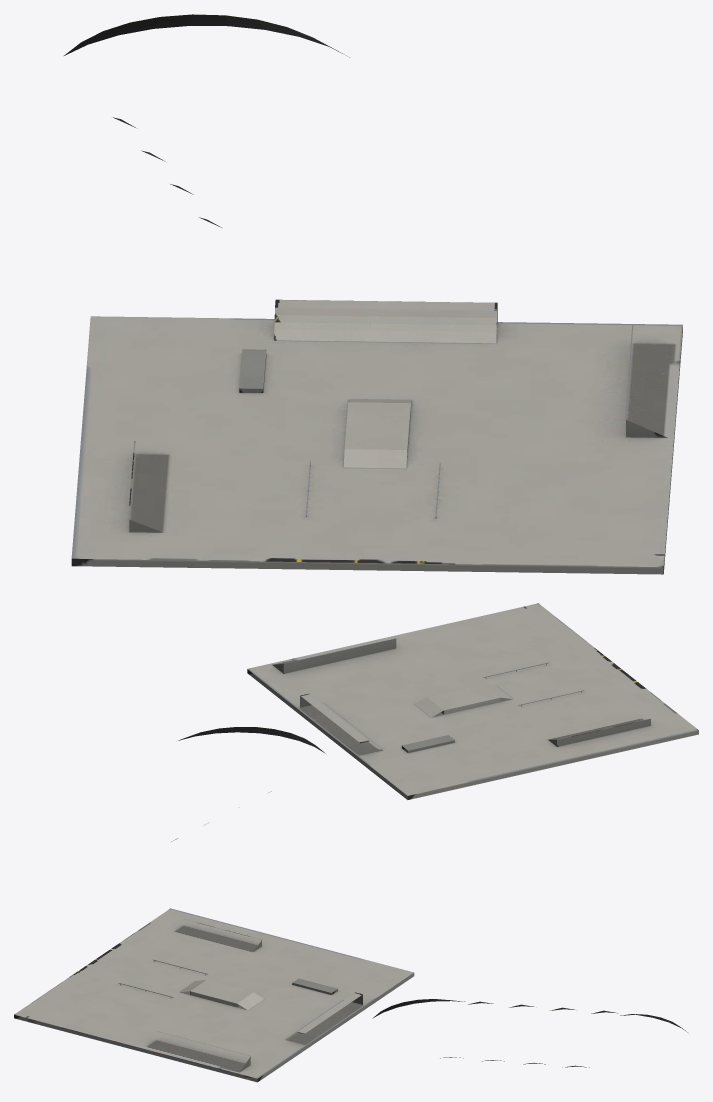
Rendered from lybed_skatepark_lod1.glb.
The picture shows the model from 3 angles, top to bottom: view 1: azimuth 30°, elevation 25°; view 2: azimuth 150°, elevation 25°; view 3: azimuth 270°, elevation 25°; orthographic projection. The views are drawn at different scales.
Visible parts, largest first — view 1: lybed_skatepark_lod1; view 2: lybed_skatepark_lod1; view 3: lybed_skatepark_lod1.
Part boxes in pixels (box(x1,y1,x2,y2)): lybed_skatepark_lod1: box(64, 14, 682, 574); lybed_skatepark_lod1: box(171, 603, 698, 841); lybed_skatepark_lod1: box(14, 908, 687, 1082).
Bounding box in the file's own units: 45.32 × 1.72 × 73.98.
Materials: 3 (3 with a texture image).
